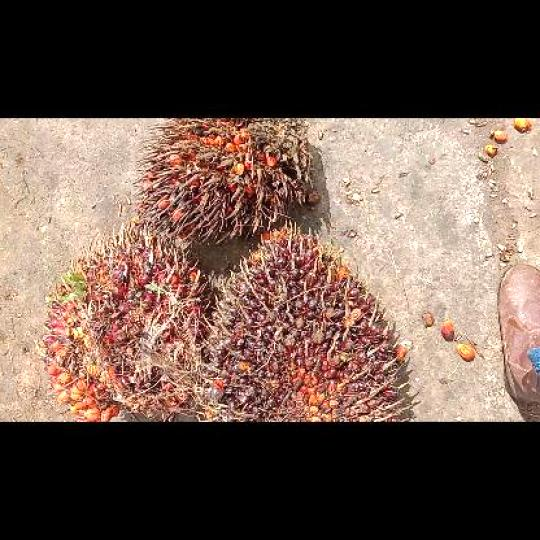kurang masak: (202, 228, 411, 421)
masak: (39, 234, 202, 420)
terlalu masak: (135, 118, 319, 245)
